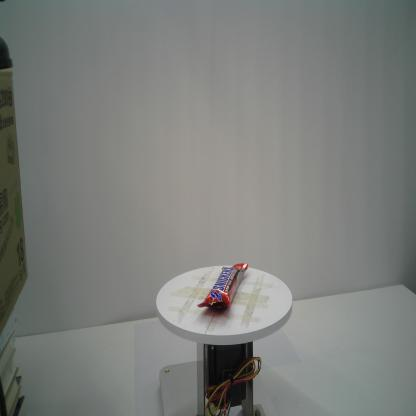Chocolate: (195, 260, 248, 312)
